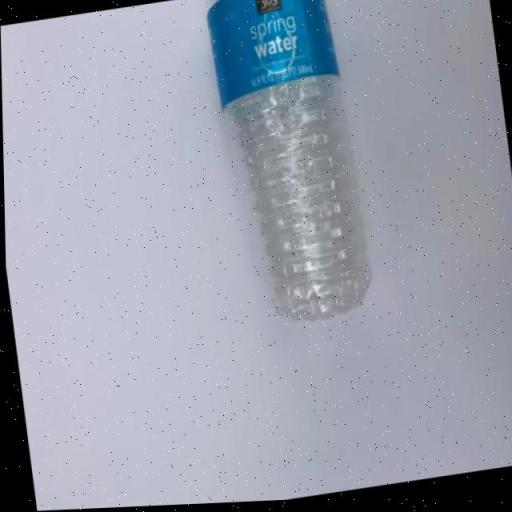plastic: (198, 0, 387, 335)
